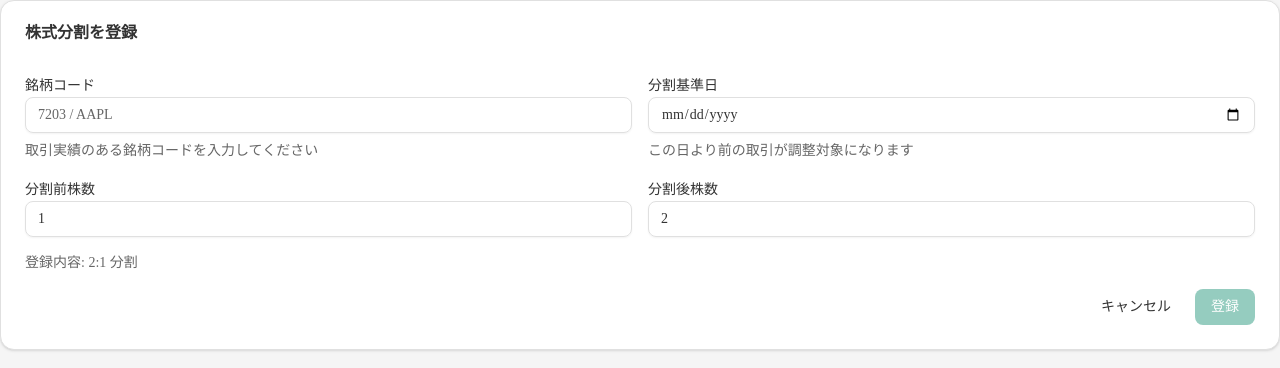
Test: StockSplitForm › 分割前後の株数が同じときは登録ボタンが無効になり理由を表示する
This screenshot has width=1280, height=368.
Type "7203" into the field labelled "銘柄コード".
click(328, 115); type("7203")  # box [25, 97, 632, 133]
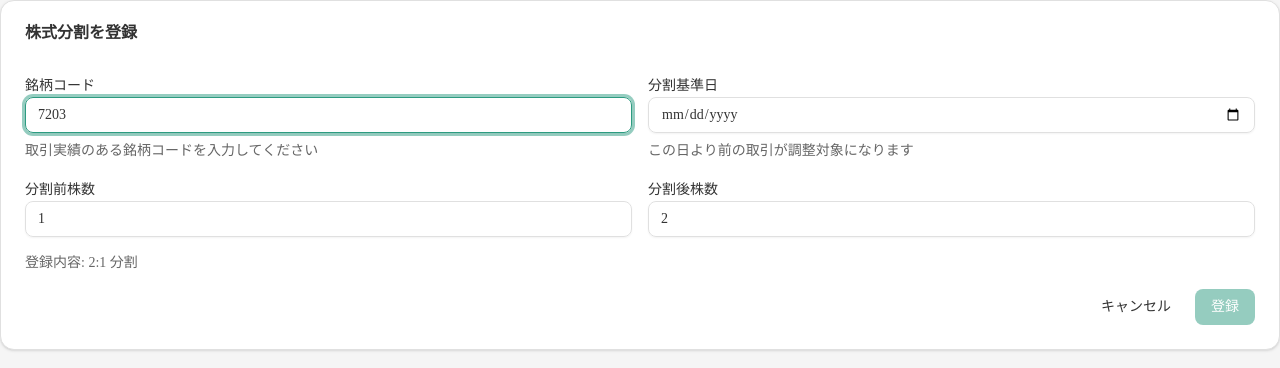
Type "2024-06-01" into the date field labelled "分割基準日".
click(952, 115); type("2024-06-01")  # box [648, 97, 1255, 133]
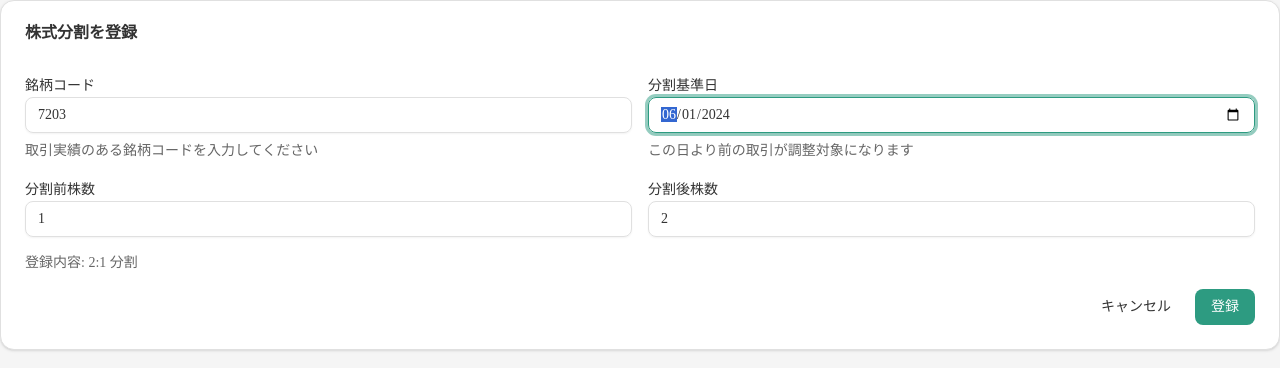
Replace the text in the number field labelled "分割後株数" with "1" at (952, 219), box [648, 201, 1255, 237]
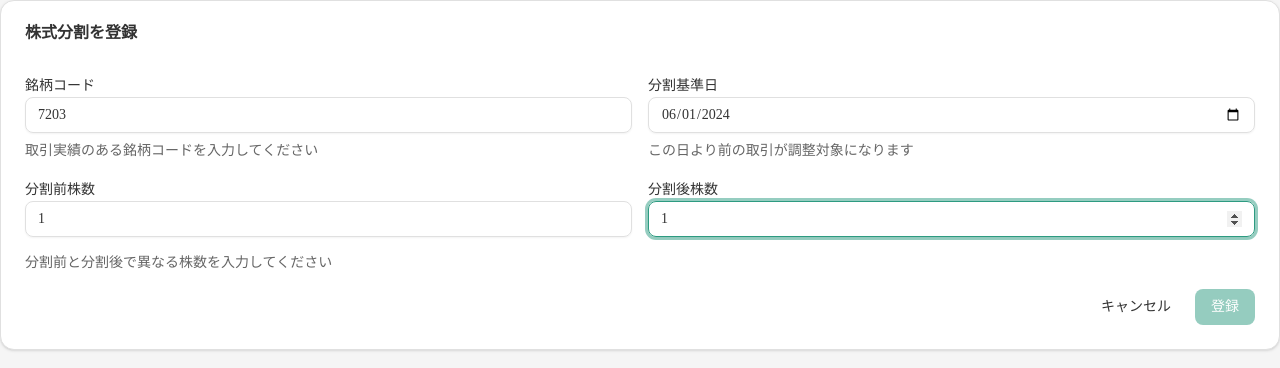
Expected: the button "登録" is disabled, [1195, 289, 1255, 325]
Expected: the text "分割前と分割後で異なる株数を入力してください" is shown, [25, 255, 332, 270]
